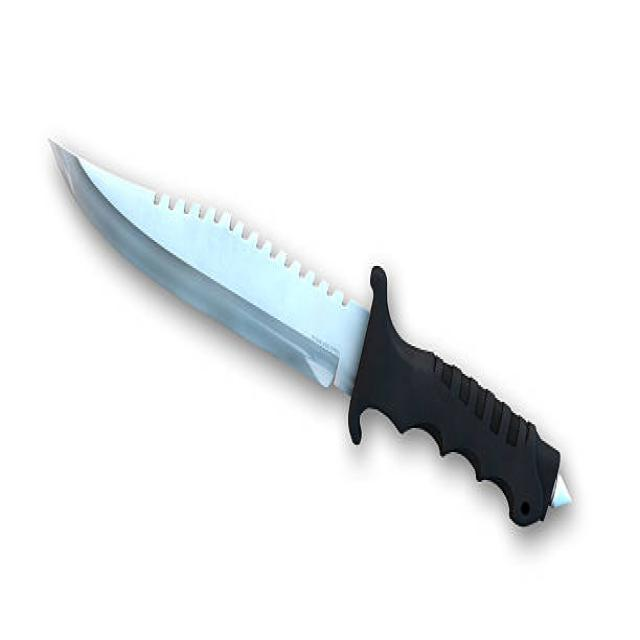knife: (46, 129, 574, 537)
